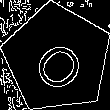O_NE: (24, 25, 90, 92)
